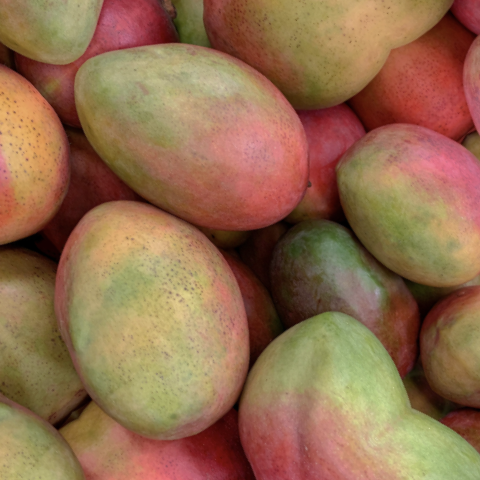mango: (22, 0, 392, 326), (0, 157, 313, 480), (189, 270, 442, 480), (300, 86, 480, 317)
